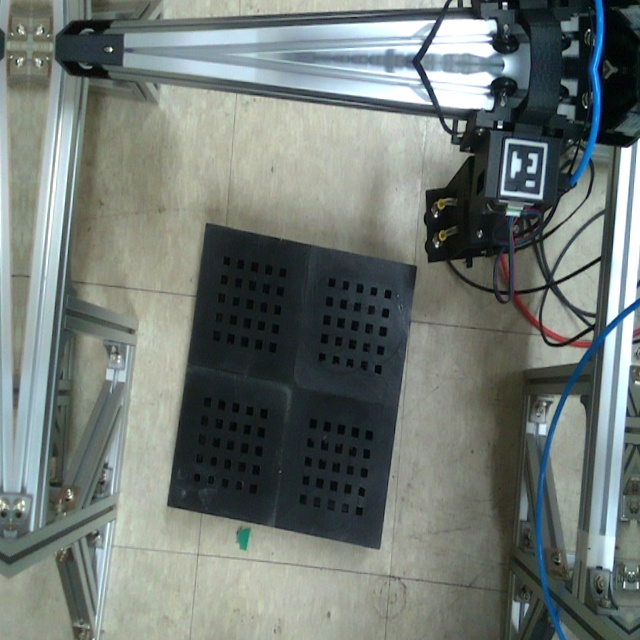pallet: (162, 220, 421, 554)
